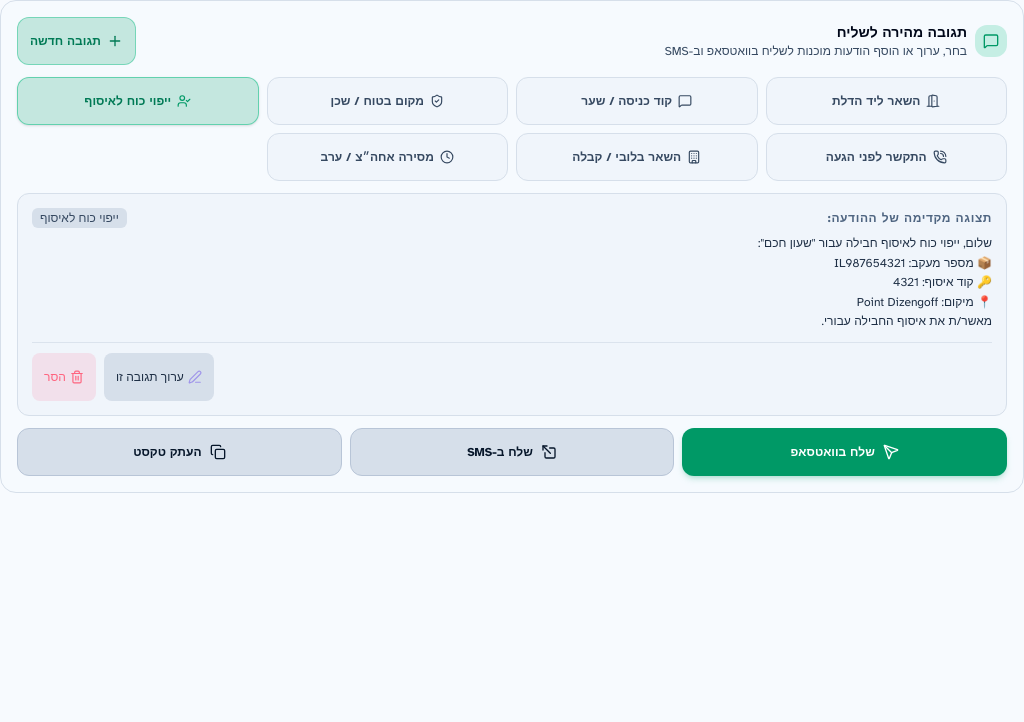
Test: CourierActionHub › allows creating and saving a custom response template
Click the button "תגובה חדשה" at (76, 41), box x1=17 y1=17 x2=136 y2=65
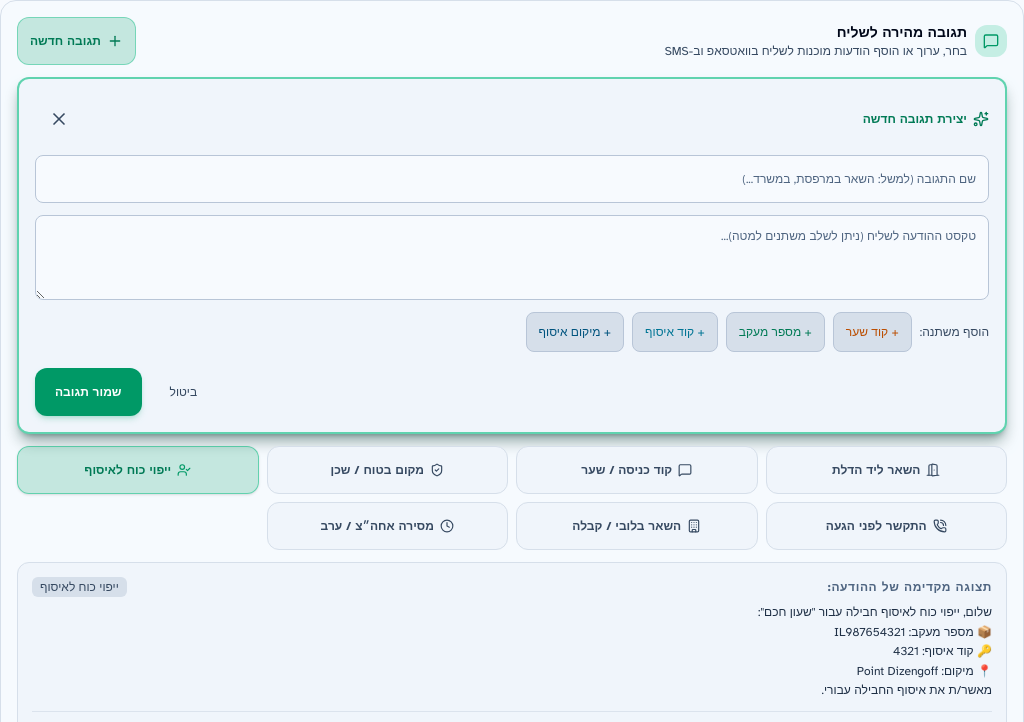
Now the field with placeholder "שם התגובה (למשל: השאר במרפסת, במשרד...)" is shown
Type "אצל השומר" into the field with placeholder "שם התגובה (למשל: השאר במרפסת, במשרד...)" at (512, 179), box x1=35 y1=155 x2=989 y2=203
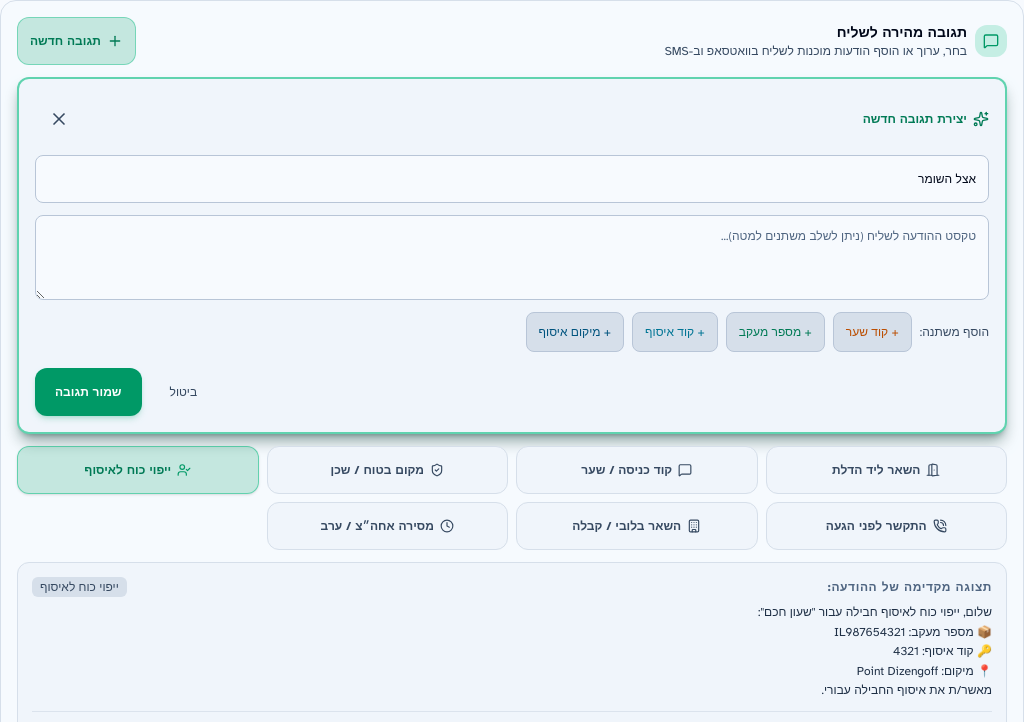
Type "שלום, אפשר להשאיר אצל השומר בכניסה." into the text box with placeholder "טקסט ההודעה לשליח (ניתן לשלב משתנים למטה)..." at (512, 258), box x1=35 y1=215 x2=989 y2=300
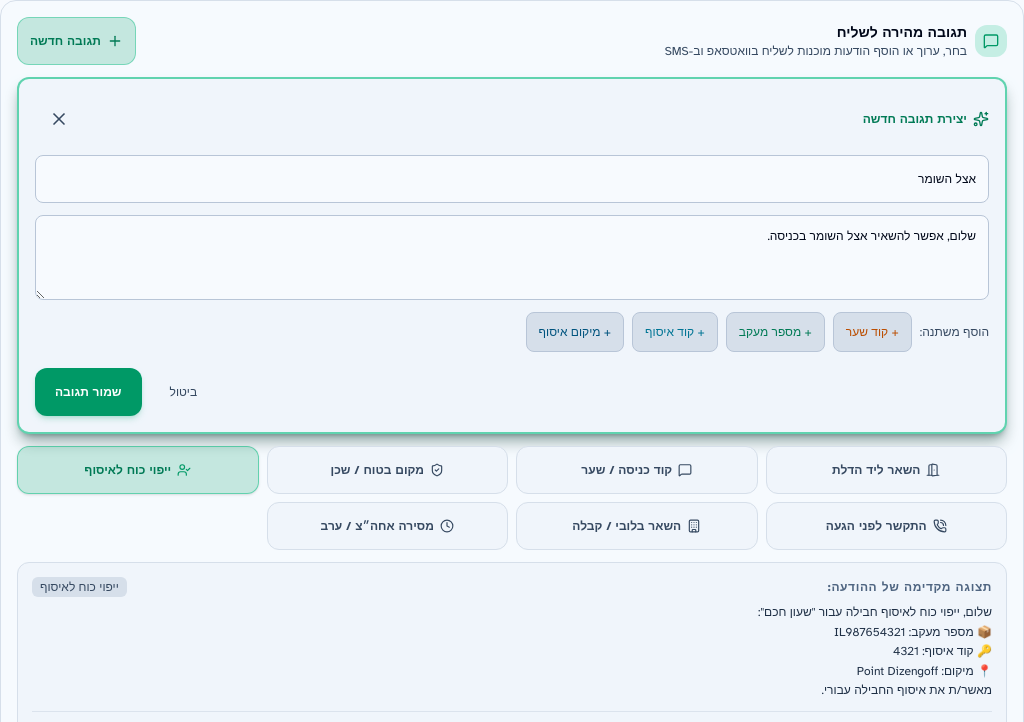
Click the button "שמור תגובה" at (88, 392), box x1=35 y1=368 x2=142 y2=416
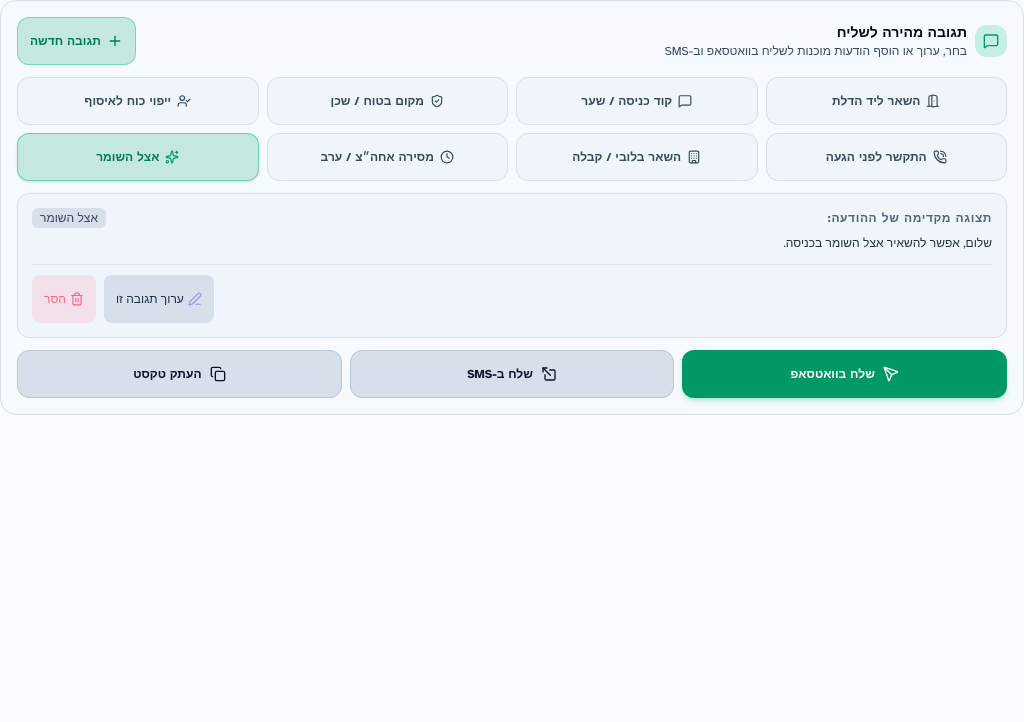
Now the 1st text "אצל השומר" is shown, box x1=96 y1=149 x2=159 y2=165
Now the text "שלום, אפשר להשאיר אצל השומר בכניסה." is shown, box x1=783 y1=236 x2=992 y2=250
